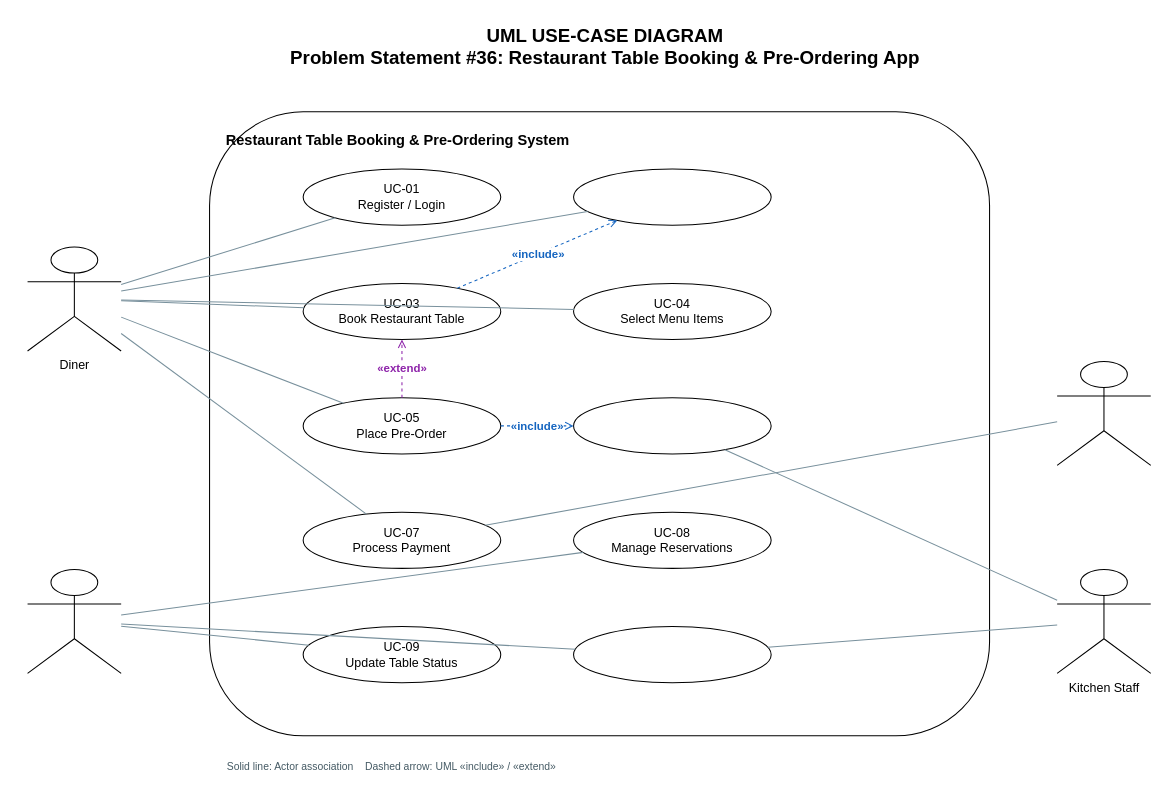
Image size: 1173x798. Some labels were removed from this diagram. The centre of each missing label's shape, as x and y in pixels:
Payment Gateway: [1103,412]
Restaurant Manager: [74,620]
UC-02 View Available Tables: [672,196]
UC-06 Calculate Preparation Time: [672,425]
UC-10 Manage Kitchen Orders: [672,654]
